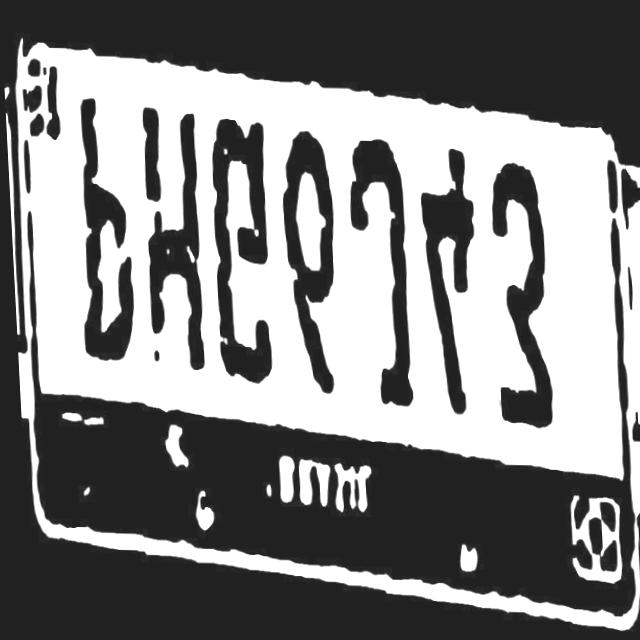3: (482, 146, 554, 446)
4: (413, 140, 483, 424)
6: (274, 118, 340, 404)
g: (203, 107, 276, 397)
h: (133, 98, 206, 391)
j: (342, 129, 417, 420)
p: (68, 95, 134, 369)
